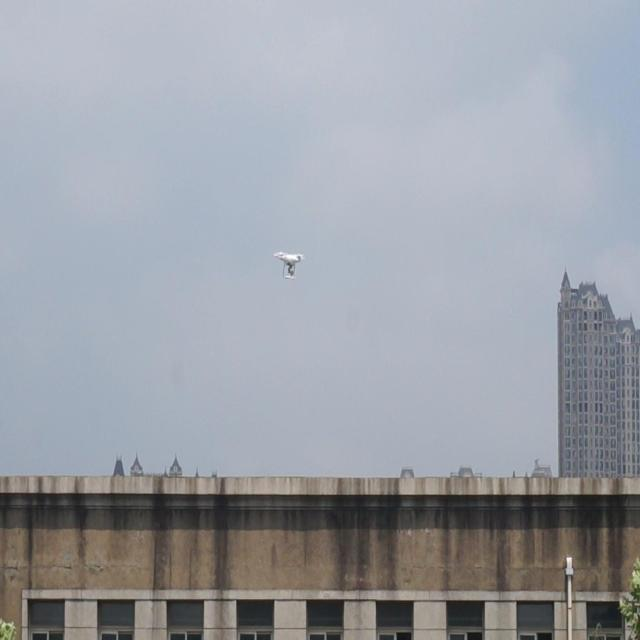drone: (271, 246, 306, 282)
